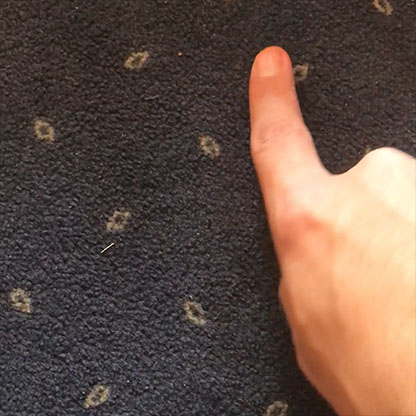fingertip: (250, 33, 306, 89)
